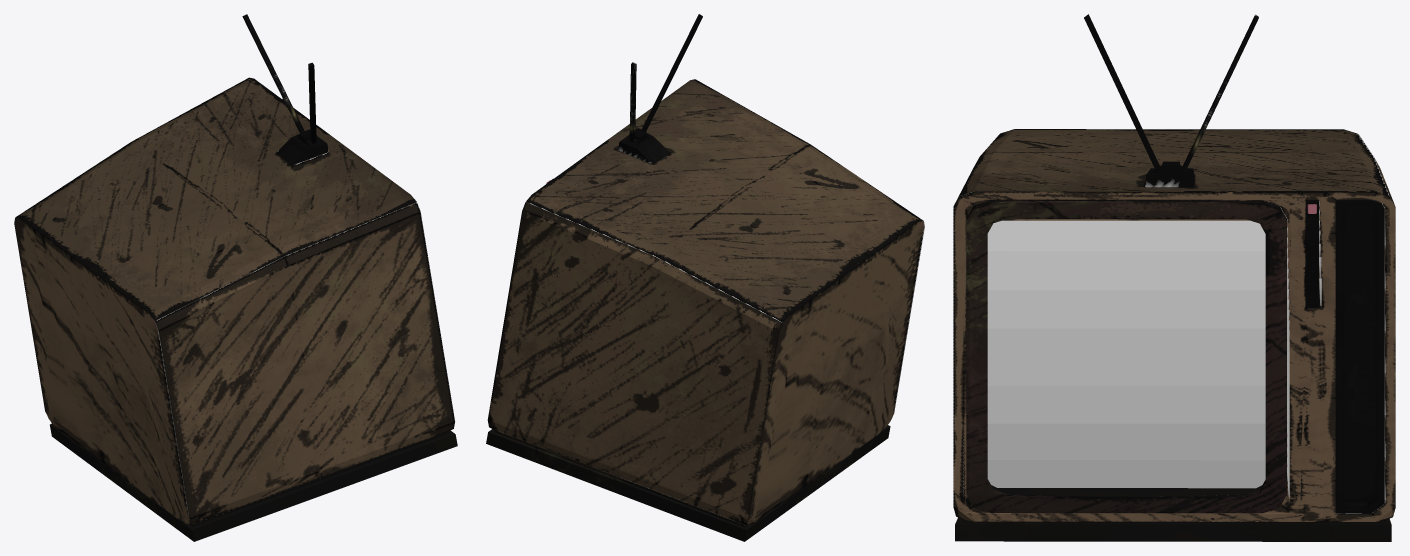
3 renders of one model, left to right at view 1: azimuth 30°, elevation 25°; view 2: azimuth 150°, elevation 25°; view 3: azimuth 270°, elevation 25°, orthographic. The views are drawn at different scales.
Parts seen in each view (by area): view 1: TV-4; view 2: TV-4; view 3: TV-4, TV-4-Screen.
Boxes of the visible parts, x1,y1,x2,y2 form: TV-4: (14,14,457,541); TV-4: (486,14,924,541); TV-4: (953,14,1395,541); TV-4-Screen: (987,220,1265,488).
Bounding box in the file's own units: 11.63 × 16.06 × 12.2.
Materials: 1 (1 with a texture image).
